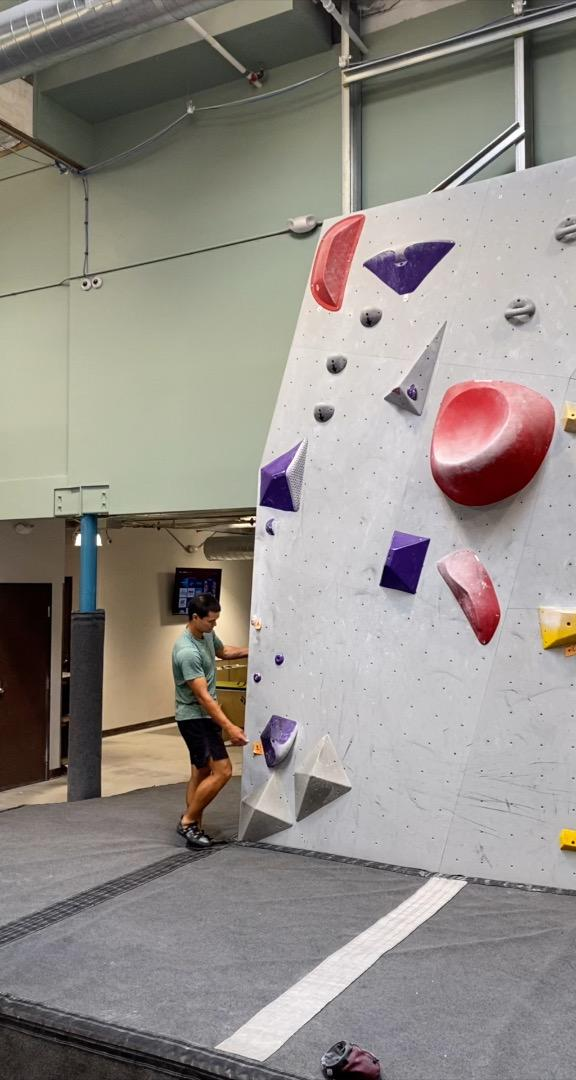holds: (428, 378, 556, 508), (436, 547, 503, 647), (309, 213, 367, 313), (361, 238, 456, 296), (258, 436, 309, 512), (377, 528, 432, 595), (259, 712, 300, 769), (536, 604, 575, 651), (502, 295, 537, 322), (553, 213, 575, 243), (559, 398, 575, 435), (359, 305, 383, 329), (324, 353, 348, 375), (312, 402, 336, 423), (558, 826, 575, 855), (264, 517, 278, 537), (406, 383, 419, 402), (274, 653, 286, 667), (252, 672, 262, 684), (250, 614, 259, 627), (391, 386, 401, 396)
